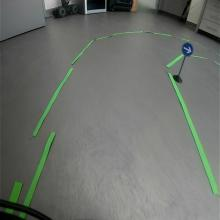right: (182, 41, 194, 58)
